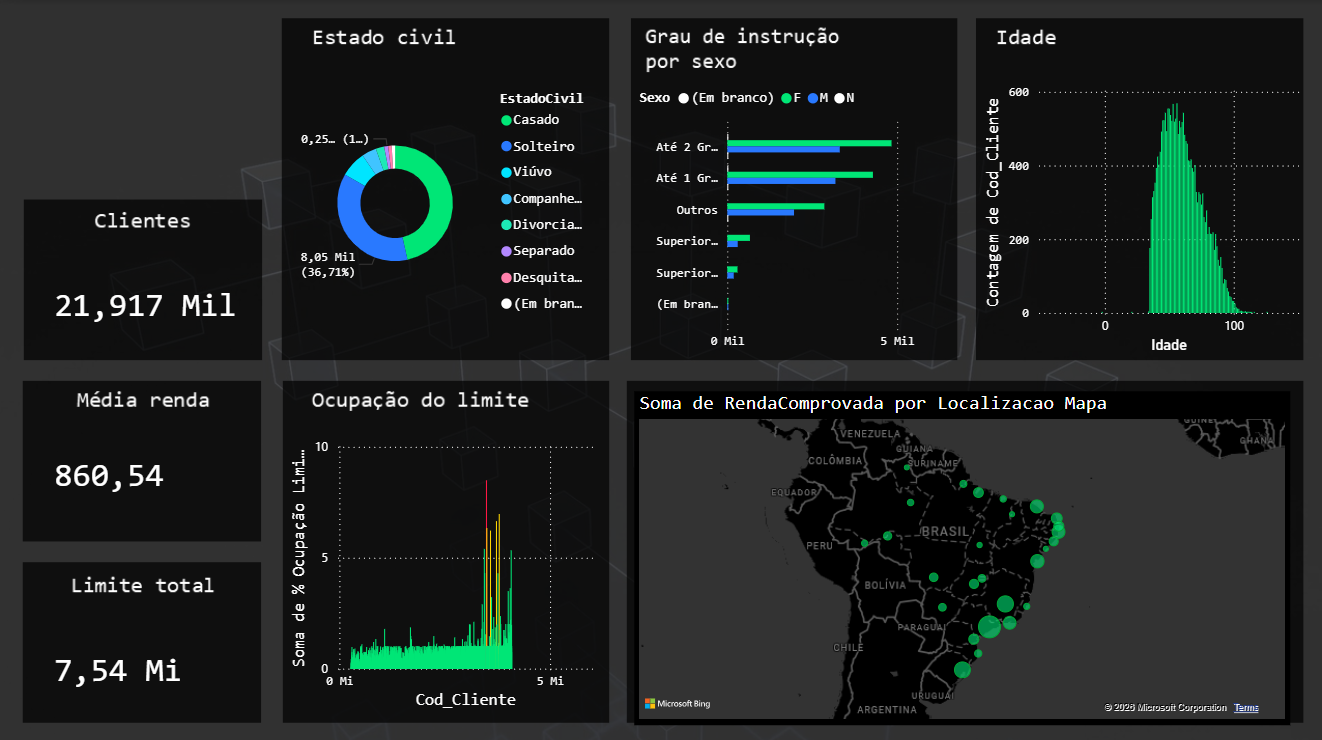

This screenshot's page, from the dashboard's own definition file:
{"tool":"powerbi","page":{"name":"Perfil_cliente","canvas":[1280,720],"ordinal":0},"visuals":[{"type":"cardVisual","fields":{"Data":["Count(Clientes.Cod_Cliente)"]},"box":[25,240,266.2,106.2],"z":0},{"type":"cardVisual","fields":{"Data":["Avg(Clientes.RendaComprovada)"]},"box":[25,397.5,222.5,120],"z":1000},{"type":"cardVisual","fields":{"Data":["Sum(Clientes.LimiteTotal)"]},"box":[25,592.5,222.5,106.2],"z":2000},{"type":"donutChart","fields":{"Category":["Clientes.EstadoCivil"],"Y":["CountNonNull(Clientes.Cod_Cliente)"]},"box":[277.5,47.5,315,298.8],"z":3000},{"type":"clusteredBarChart","fields":{"Category":["Clientes.GrauInstrucao"],"Y":["CountNonNull(Clientes.Cod_Cliente)"],"Series":["Clientes.Sexo"]},"box":[613.8,75,308.8,271.2],"z":4000},{"type":"clusteredColumnChart","fields":{"Category":["Clientes.Idade"],"Y":["Count(Clientes.Cod_Cliente)"]},"box":[947.5,75,323.8,271.2],"z":5000},{"type":"clusteredColumnChart","fields":{"Category":["Clientes.Cod_Cliente"],"Y":["Sum(Clientes.% Ocupação Limite)"]},"box":[277.5,417.5,315,272.5],"z":6000},{"type":"map","fields":{"Size":["Sum(Clientes.RendaComprovada)"],"Category":["Clientes.Localizacao Mapa"]},"box":[613.8,377.5,632.5,321.2],"z":7000}]}

Visuals, with their boxes in screenshot pixels (x1, y1, x2, y2), scaled from the page's 1280x720 canvas onto the 1322x740 screenshot:
cardVisual - Count(Clientes.Cod_Cliente): region(26, 247, 301, 356)
cardVisual - Avg(Clientes.RendaComprovada): region(26, 409, 256, 532)
cardVisual - Sum(Clientes.LimiteTotal): region(26, 609, 256, 718)
donutChart - Clientes.EstadoCivil x CountNonNull(Clientes.Cod_Cliente): region(287, 49, 612, 356)
clusteredBarChart - Clientes.GrauInstrucao x CountNonNull(Clientes.Cod_Cliente): region(634, 77, 953, 356)
clusteredColumnChart - Clientes.Idade x Count(Clientes.Cod_Cliente): region(979, 77, 1313, 356)
clusteredColumnChart - Clientes.Cod_Cliente x Sum(Clientes.% Ocupação Limite): region(287, 429, 612, 709)
map - Sum(Clientes.RendaComprovada) x Clientes.Localizacao Mapa: region(634, 388, 1287, 718)
